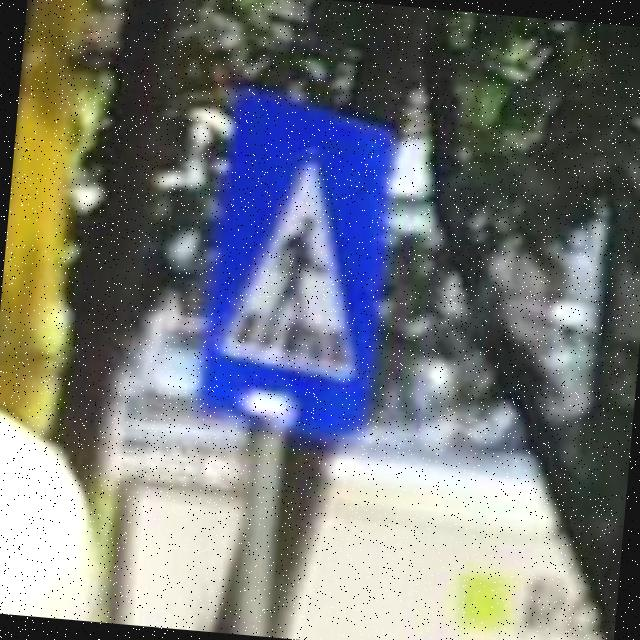Przejscie dla pieszych: (195, 94, 398, 444)
